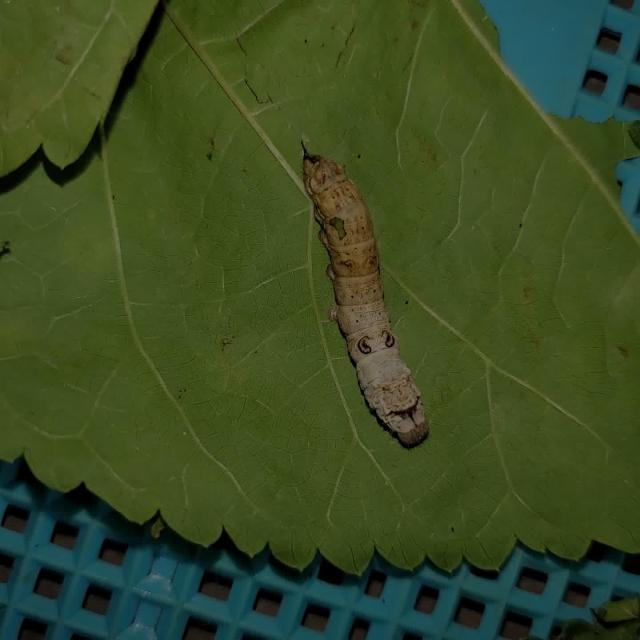Grasserie: (278, 138, 450, 459)
